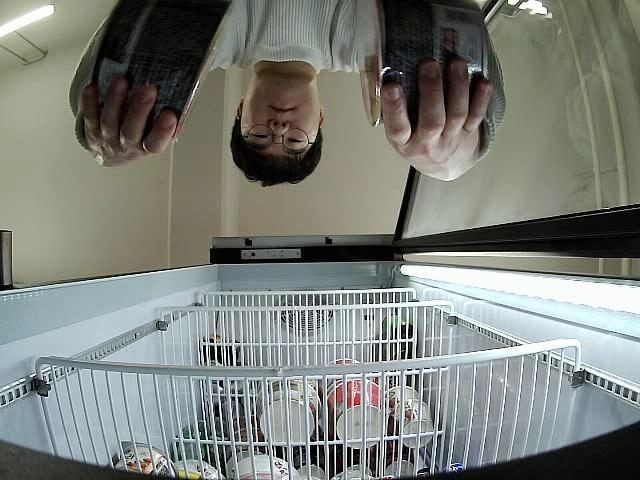07_buldak_L: (91, 0, 228, 139), (354, 0, 487, 128)
